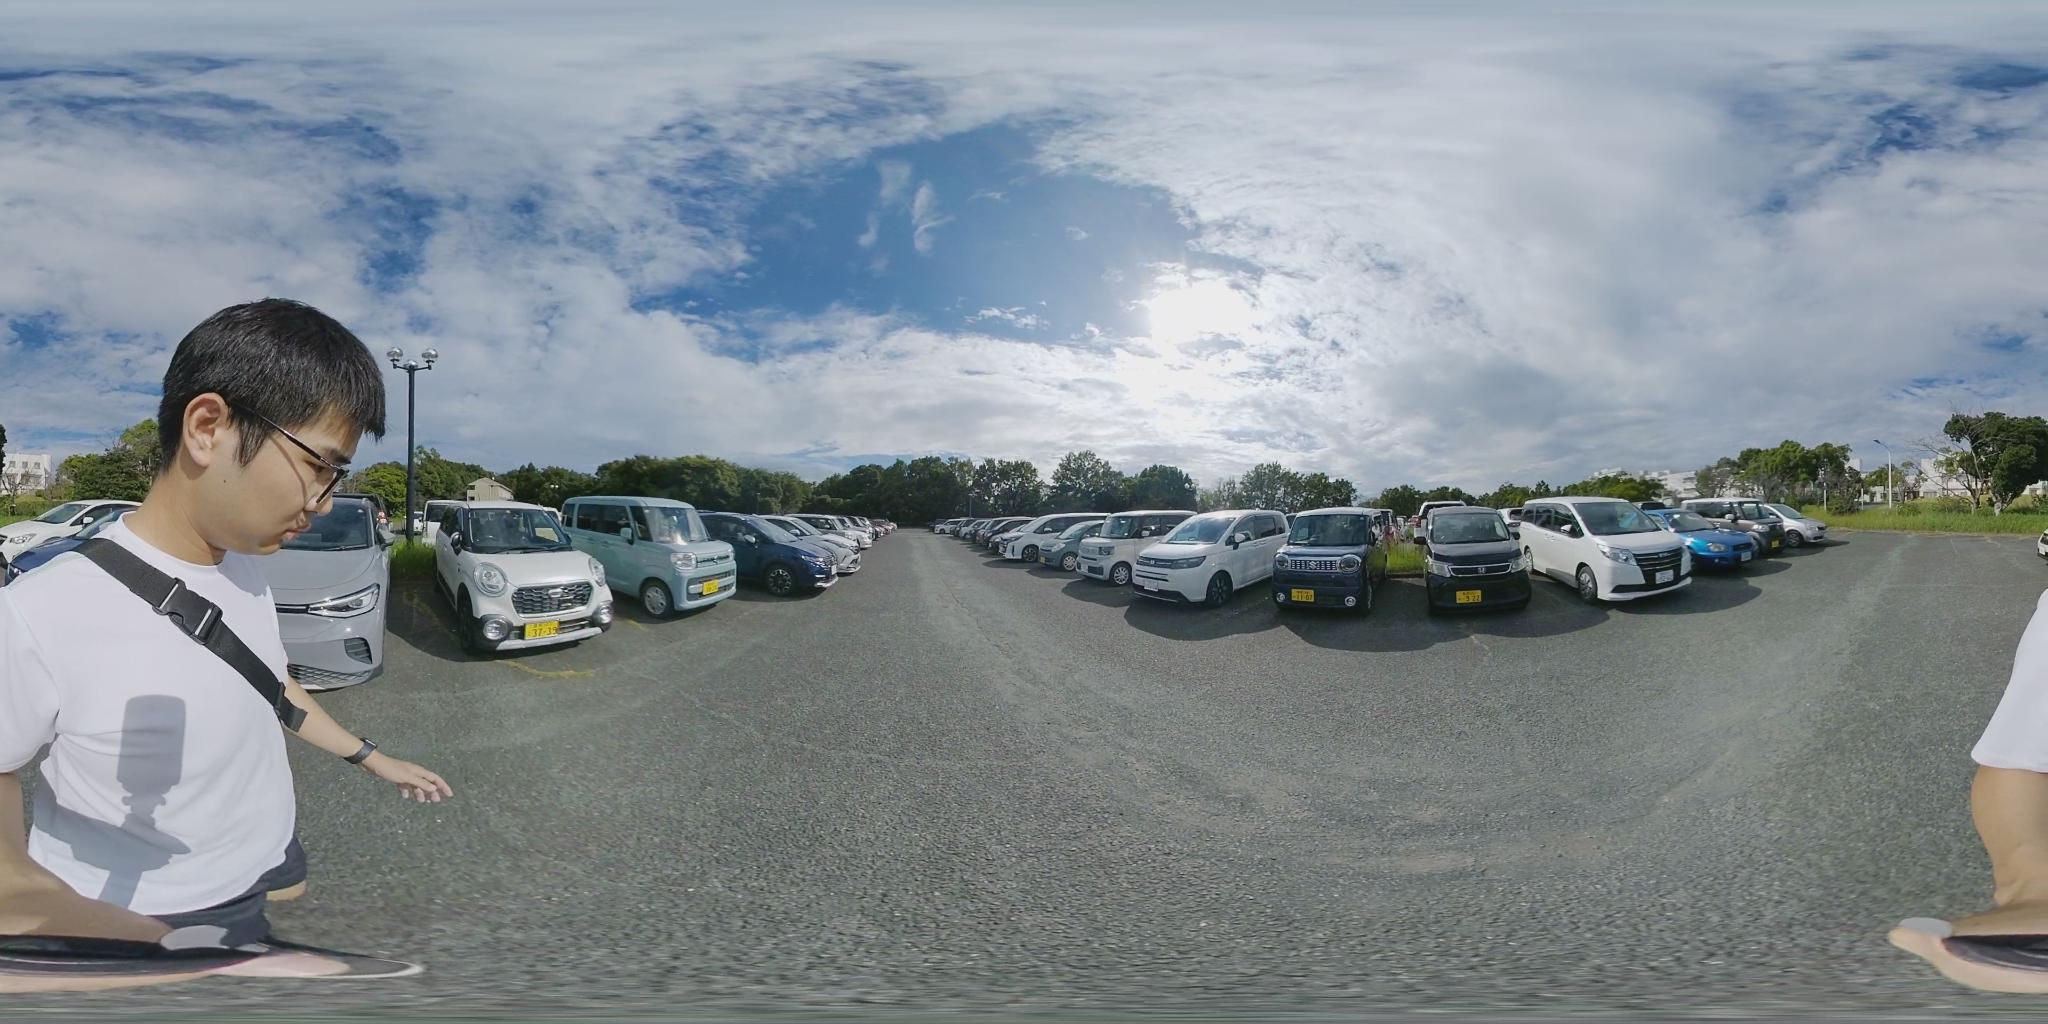car: (434, 503, 616, 657), (559, 495, 741, 618), (1510, 498, 1695, 602), (1112, 512, 1292, 603), (1272, 507, 1394, 613), (1420, 505, 1535, 613), (699, 513, 844, 597), (1673, 498, 1838, 552), (1050, 515, 1179, 577), (1647, 508, 1762, 572), (993, 513, 1098, 563)
